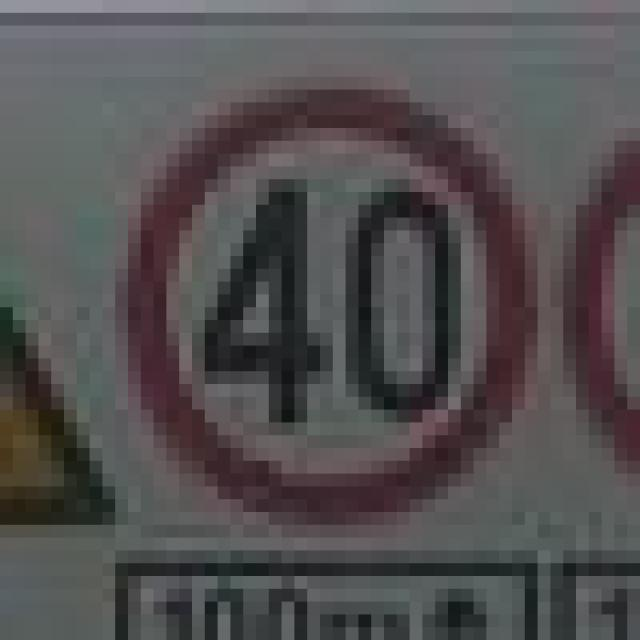falling_rocks: (115, 77, 525, 512)
